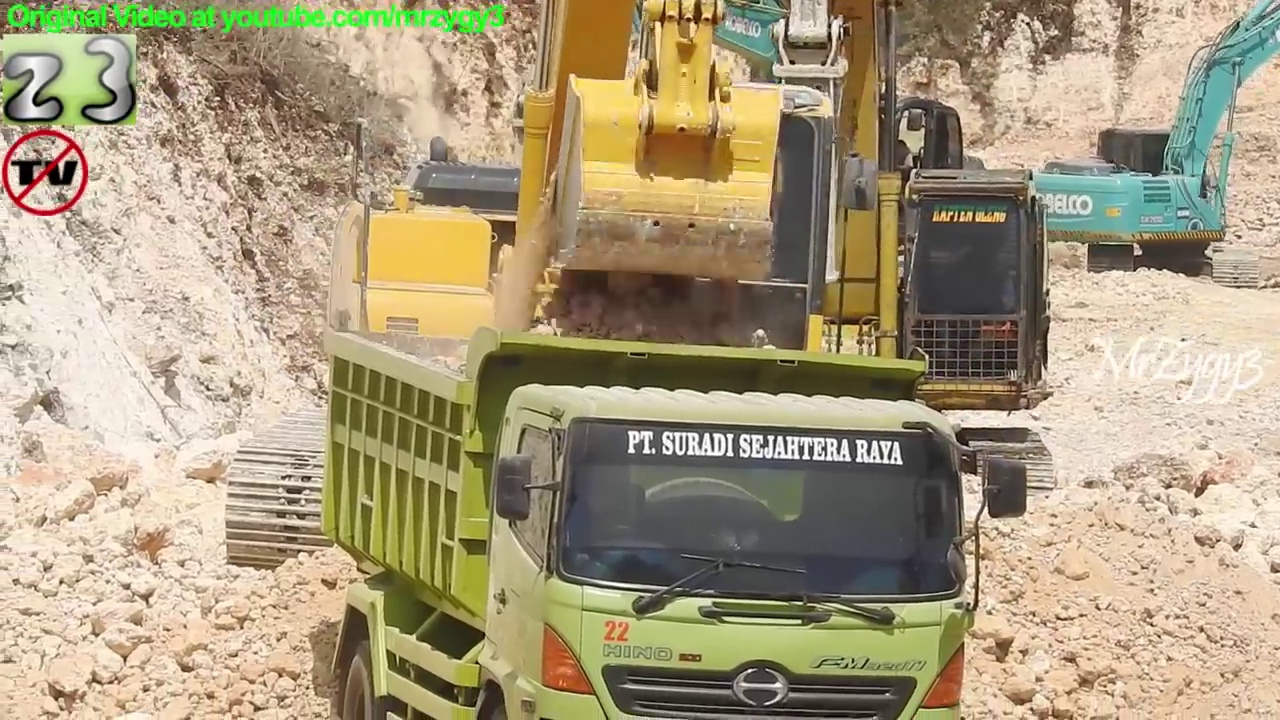excavator: (216, 1, 926, 586), (376, 1, 1062, 523), (1009, 1, 1280, 293)
truck: (322, 316, 1030, 720)
